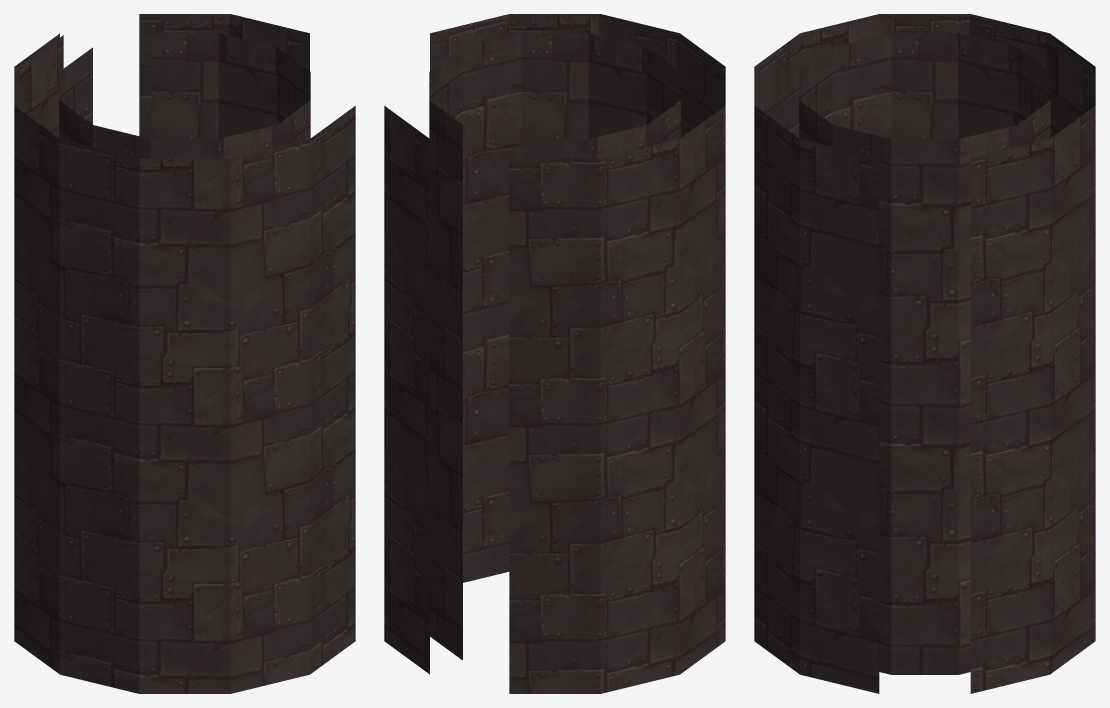
File: sn_jixie_yuantongqiang_001.FBX
3 renders of one model, left to right at view 1: azimuth 30°, elevation 25°; view 2: azimuth 150°, elevation 25°; view 3: azimuth 270°, elevation 25°, orthographic.
Parts seen in each view (by area): view 1: sn_jixie_yuantongqiang_001; view 2: sn_jixie_yuantongqiang_001; view 3: sn_jixie_yuantongqiang_001.
Boxes of the visible parts, left/top/right/bottom form: sn_jixie_yuantongqiang_001: left=14, top=14, right=355, bottom=693; sn_jixie_yuantongqiang_001: left=384, top=14, right=725, bottom=693; sn_jixie_yuantongqiang_001: left=754, top=14, right=1095, bottom=693.
Bounding box in the file's own units: 67.6 × 67.6 × 117.
